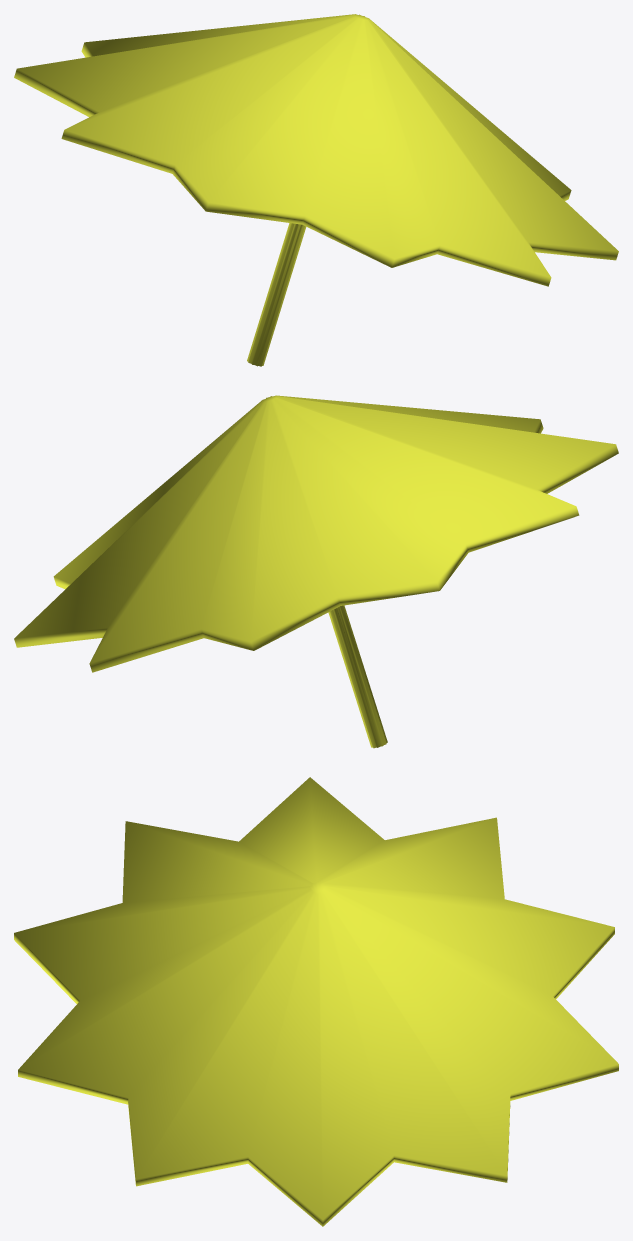
The model's file is umbrella.fbx.
3 views of the same model, one above another, from view 1: azimuth 30°, elevation 25°; view 2: azimuth 150°, elevation 25°; view 3: azimuth 270°, elevation 25° (orthographic).
Parts seen in each view (by area): view 1: umbrella; view 2: umbrella; view 3: umbrella.
Part boxes in pixels (x1,y1,x2,y2): umbrella: [14, 14, 618, 366]; umbrella: [14, 395, 618, 748]; umbrella: [14, 777, 618, 1226].
Bounding box in the file's own units: 24.07 × 14.44 × 24.32.
